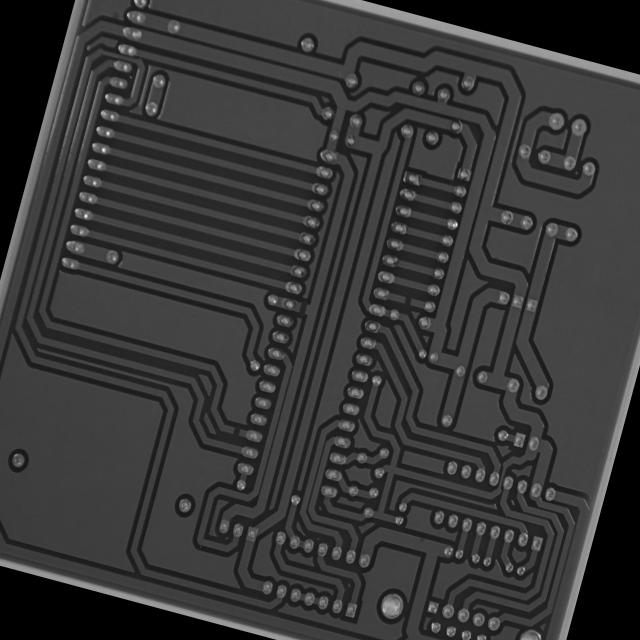open_circuit: (227, 421, 245, 440), (294, 298, 310, 318), (399, 292, 416, 308)
